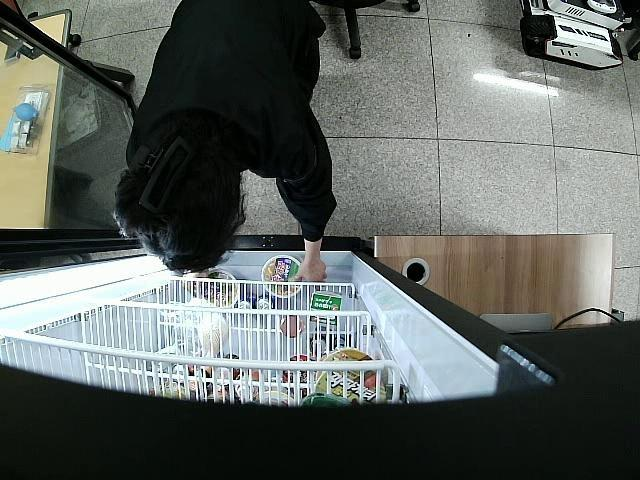09_yukGaeJang: (260, 256, 302, 298), (199, 270, 240, 308)
